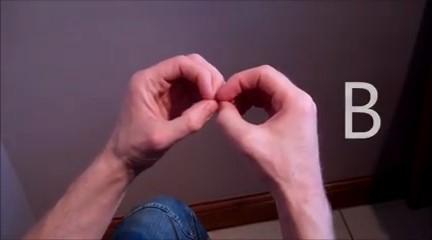B: (105, 42, 328, 180)
